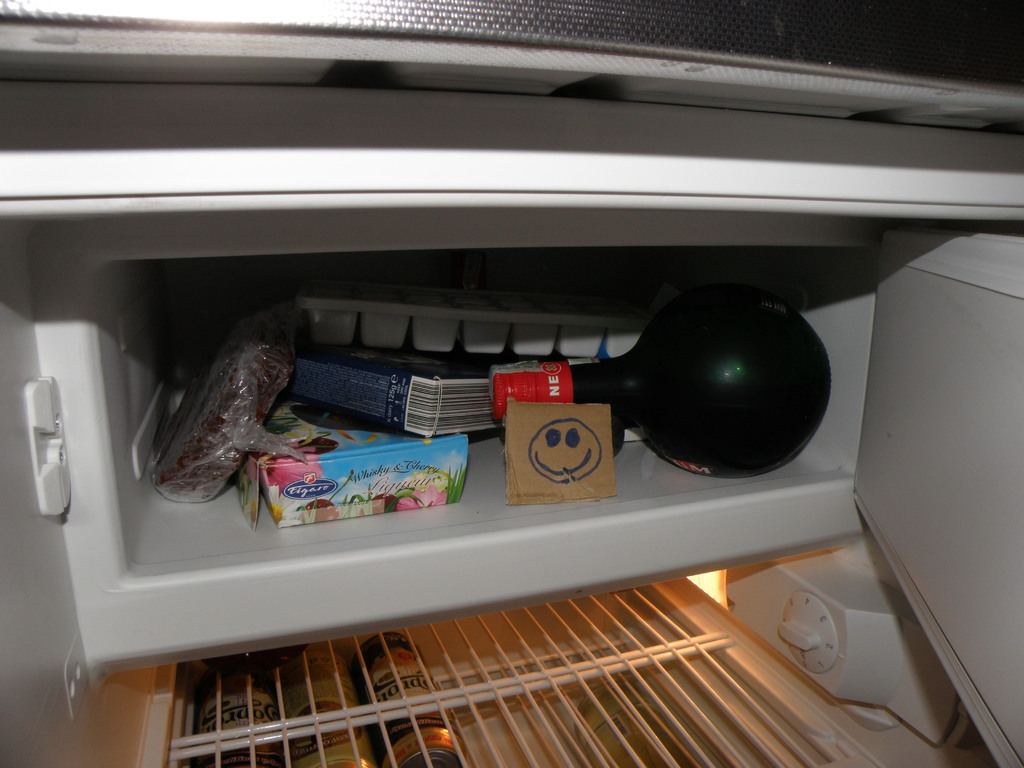refrigerator door: (877, 257, 1024, 599)
